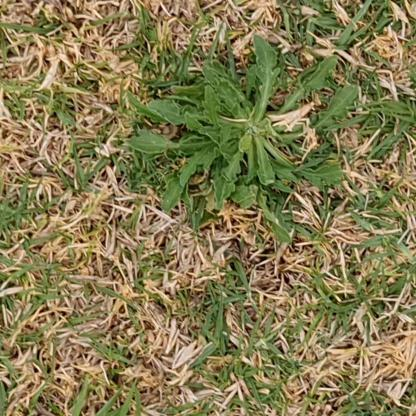Weeds: (118, 31, 358, 246)
